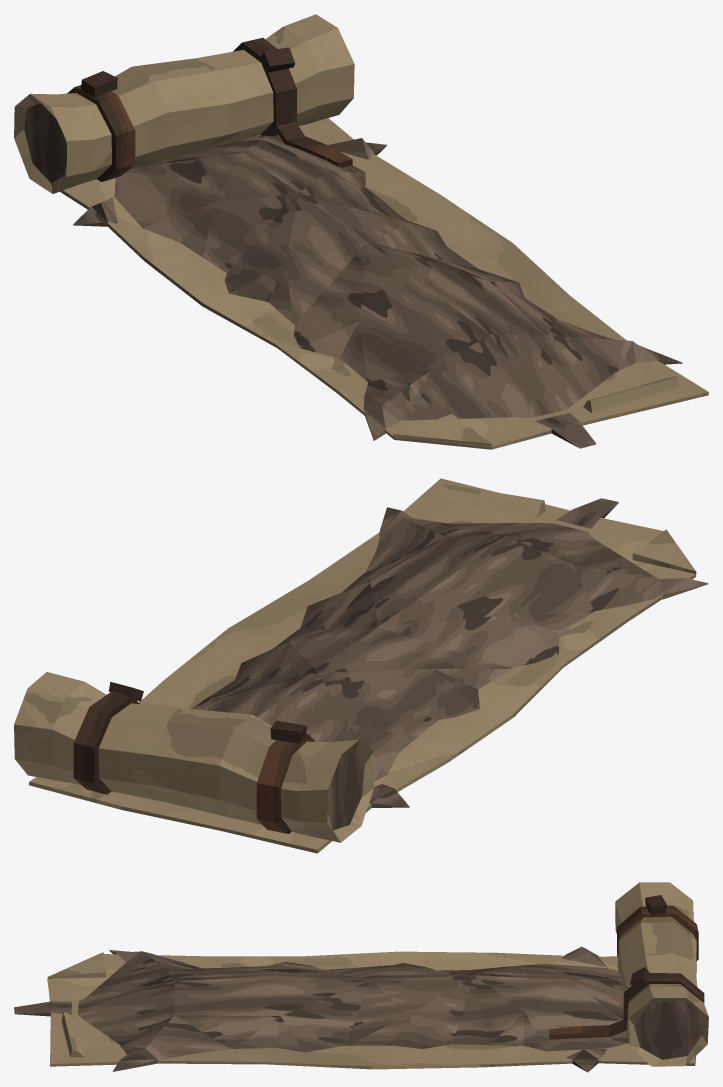
File: SM_Bedroll.fbx
3 renders of one model, top to bottom at view 1: azimuth 30°, elevation 25°; view 2: azimuth 150°, elevation 25°; view 3: azimuth 270°, elevation 25°, orthographic. The views are drawn at different scales.
Parts seen in each view (by area): view 1: SM_Bedroll; view 2: SM_Bedroll; view 3: SM_Bedroll.
Part boxes in pixels (<box>): SM_Bedroll: <box>14,14,708,449</box>; SM_Bedroll: <box>14,478,708,853</box>; SM_Bedroll: <box>14,882,708,1072</box>.
Bounding box in the file's own units: 0.804 × 0.2346 × 1.9.
